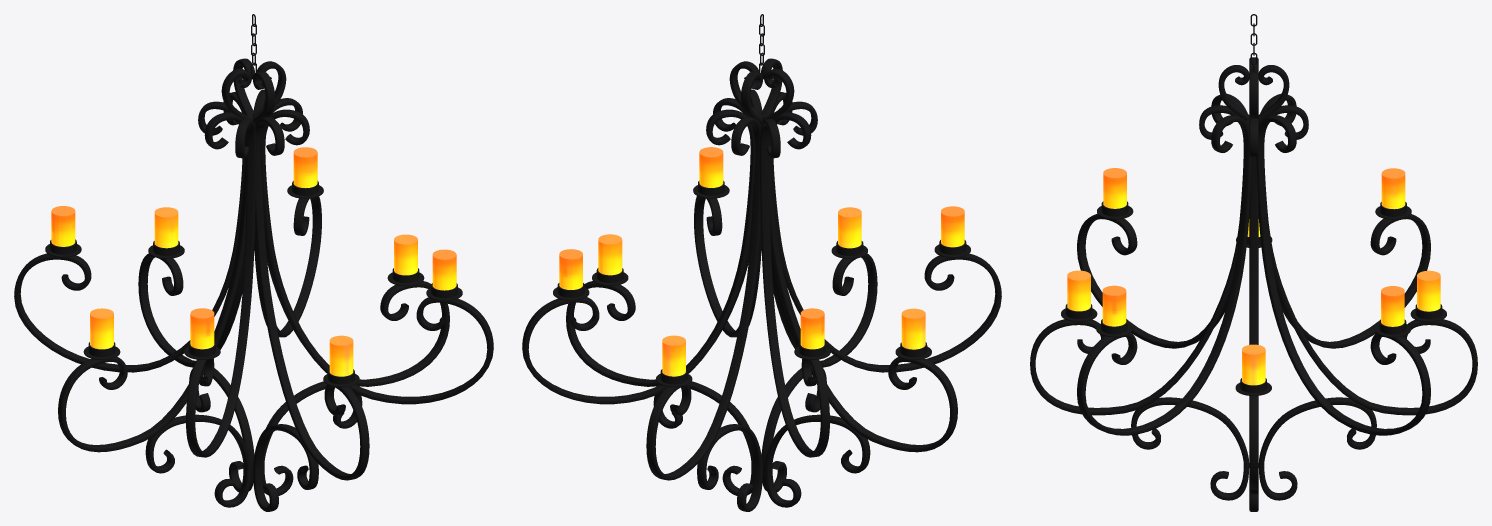
File: chandelier.glb
The picture shows the model from 3 angles, left to right: view 1: azimuth 30°, elevation 25°; view 2: azimuth 150°, elevation 25°; view 3: azimuth 270°, elevation 25°; orthographic projection.
Visible parts, largest first — view 1: Object_5, Object_4, Object_6, Object_3, Object_7, Object_2; view 2: Object_6, Object_5, Object_3, Object_7, Object_4, Object_2; view 3: Object_5, Object_4, Object_3, Object_7, Object_6, Object_2.
Part boxes in pixels (x1,y1,x2,y2): Object_5: (14, 89, 369, 480); Object_4: (186, 109, 493, 495); Object_6: (45, 92, 462, 452); Object_3: (145, 98, 449, 511); Object_7: (51, 147, 456, 376); Object_2: (221, 14, 286, 123); Object_6: (553, 112, 970, 480); Object_5: (522, 92, 877, 457); Object_3: (566, 98, 870, 511); Object_7: (559, 147, 964, 376); Object_4: (653, 89, 1001, 495); Object_2: (729, 14, 794, 123); Object_5: (1030, 94, 1430, 435); Object_4: (1077, 94, 1258, 511); Object_3: (1131, 118, 1376, 500); Object_7: (1067, 168, 1440, 385); Object_6: (1061, 105, 1477, 415); Object_2: (1218, 14, 1289, 120).
Size of the model in its own units: 1.82 by 2.17 by 1.82.
2 materials, 1 textured.
